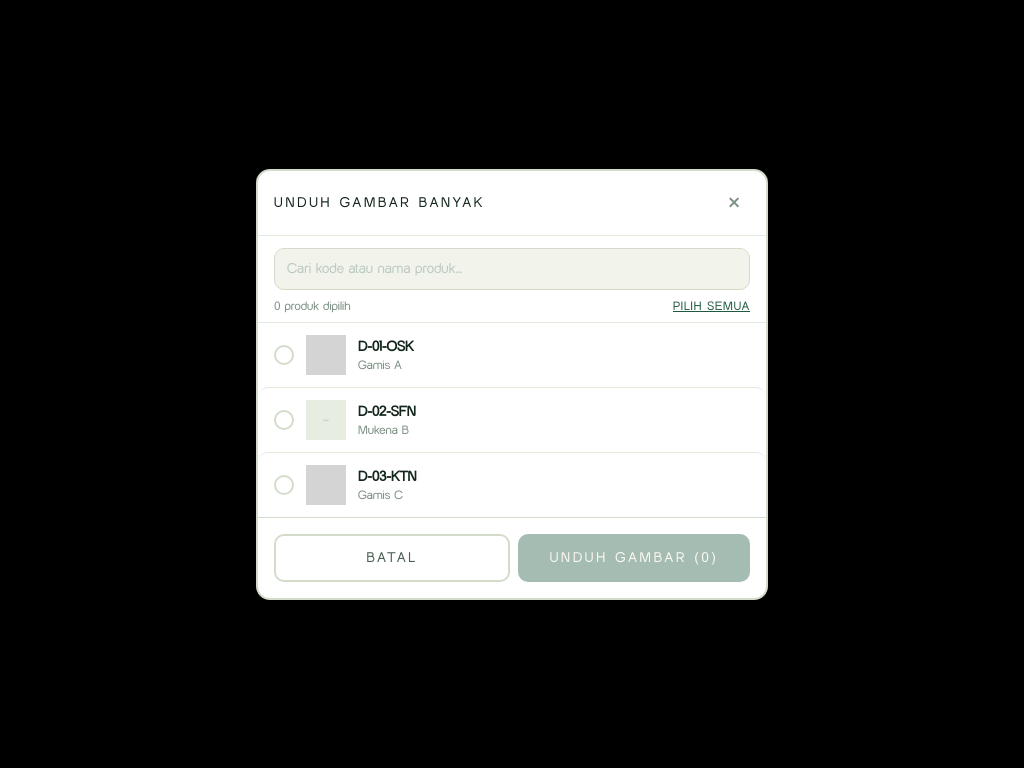
Test case: BulkSaveImageModal › klik satu produk menambah pilihan & mengaktifkan tombol unduh
The width and height of the screenshot is (1024, 768).
Click the text "D-01-OSK" at [386, 346], box [358,338,413,354]
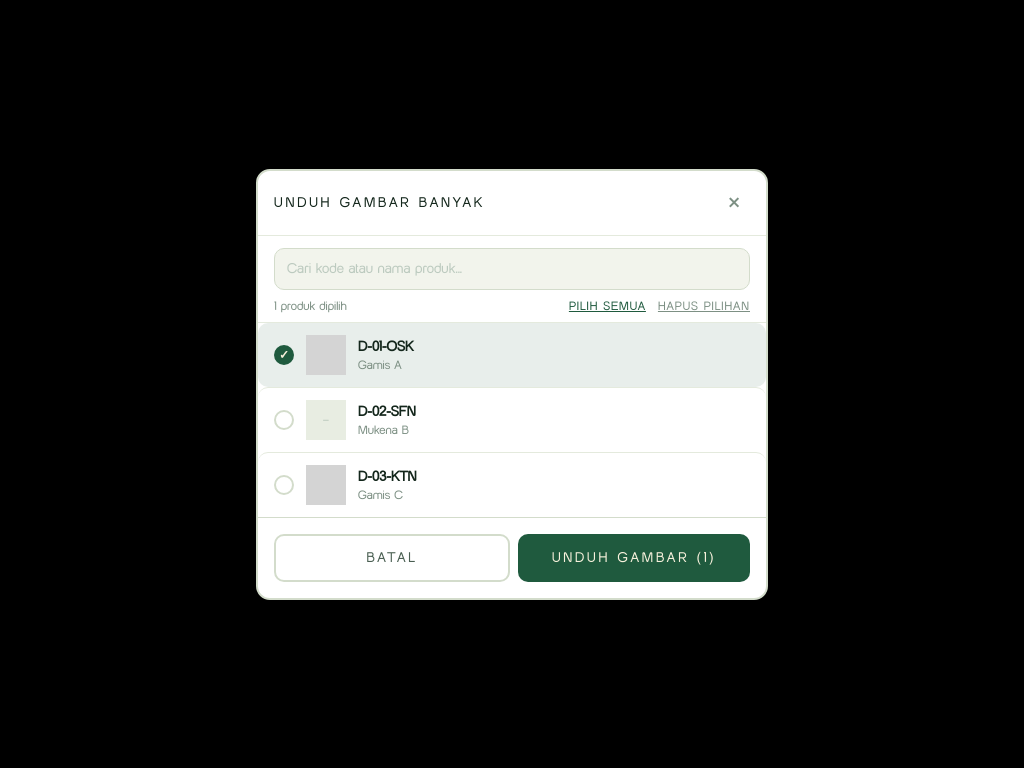
Now the text "1 produk dipilih" is shown, box [274,298,347,314]
Now the button "Unduh Gambar (1)" is enabled, box [518,534,750,582]
